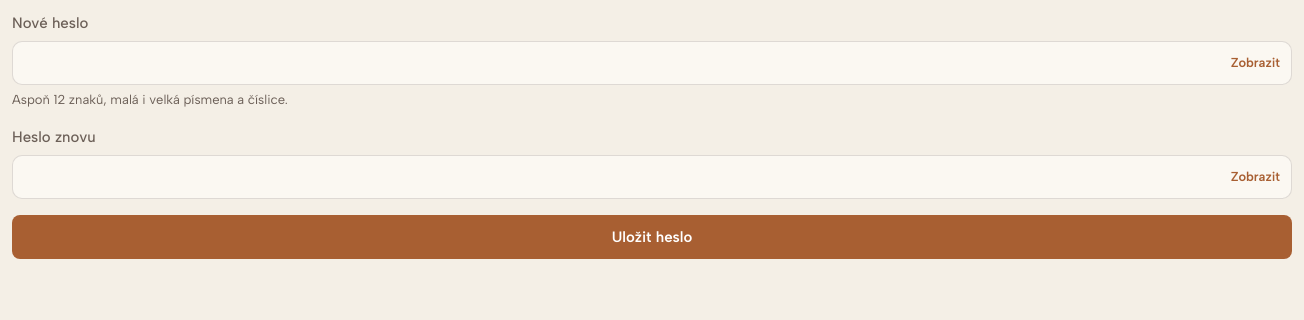
Scenario: PasswordForm – nastavení hesla › krátké heslo neodešle a řekne pravidla
Step 1. Type "Kratke1" into the password field labelled "Nové heslo" → coordinates (652, 63), box [12,41,1292,85]
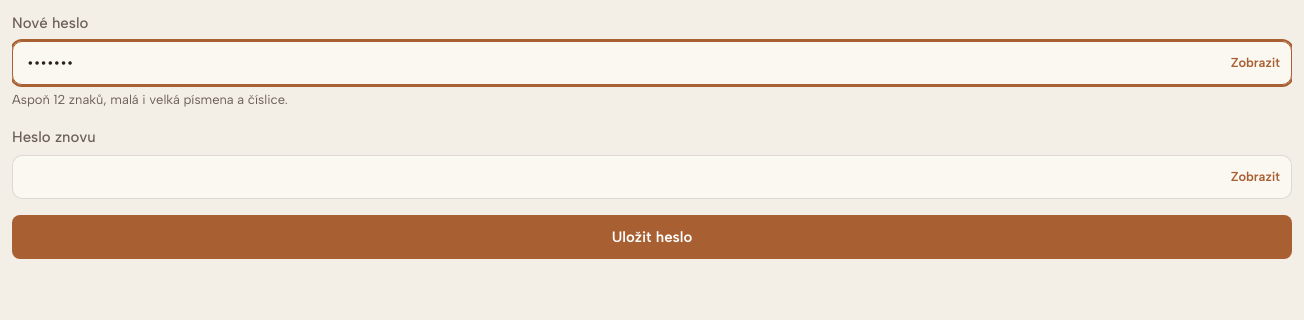
Step 2. Type "Kratke1" into the password field labelled "Heslo znovu" → coordinates (652, 177), box [12,155,1292,199]
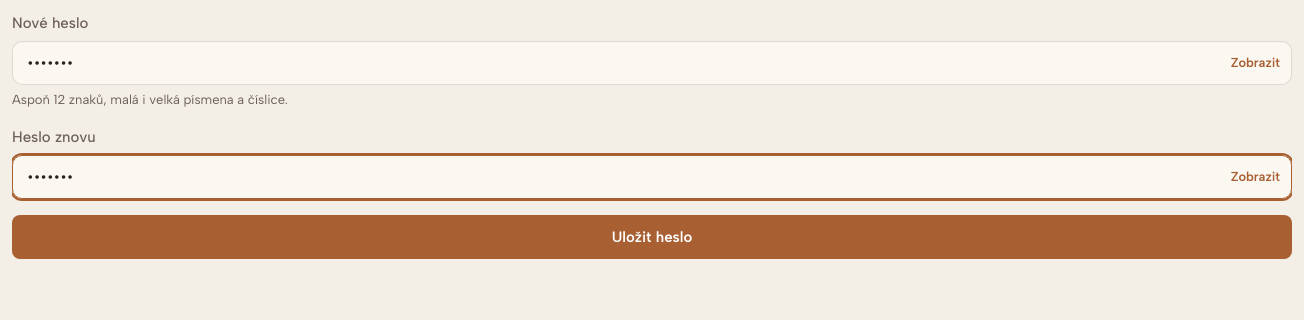
Step 3. Click the button "Uložit heslo" → coordinates (652, 237), box [12,215,1292,259]
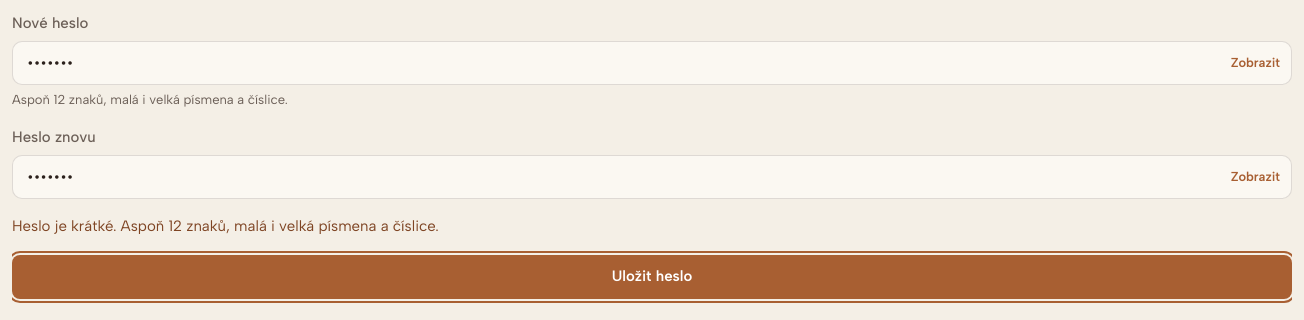
Expected: the message shows "Heslo je krátké. Aspoň 12 znaků", [12,217,439,235]
